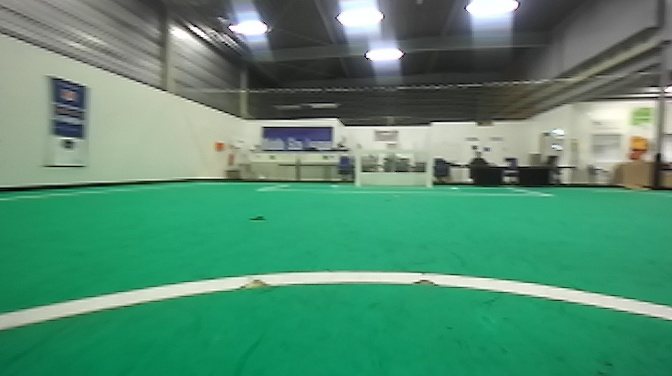goalpost: (416, 135, 436, 187), (345, 143, 365, 188)
